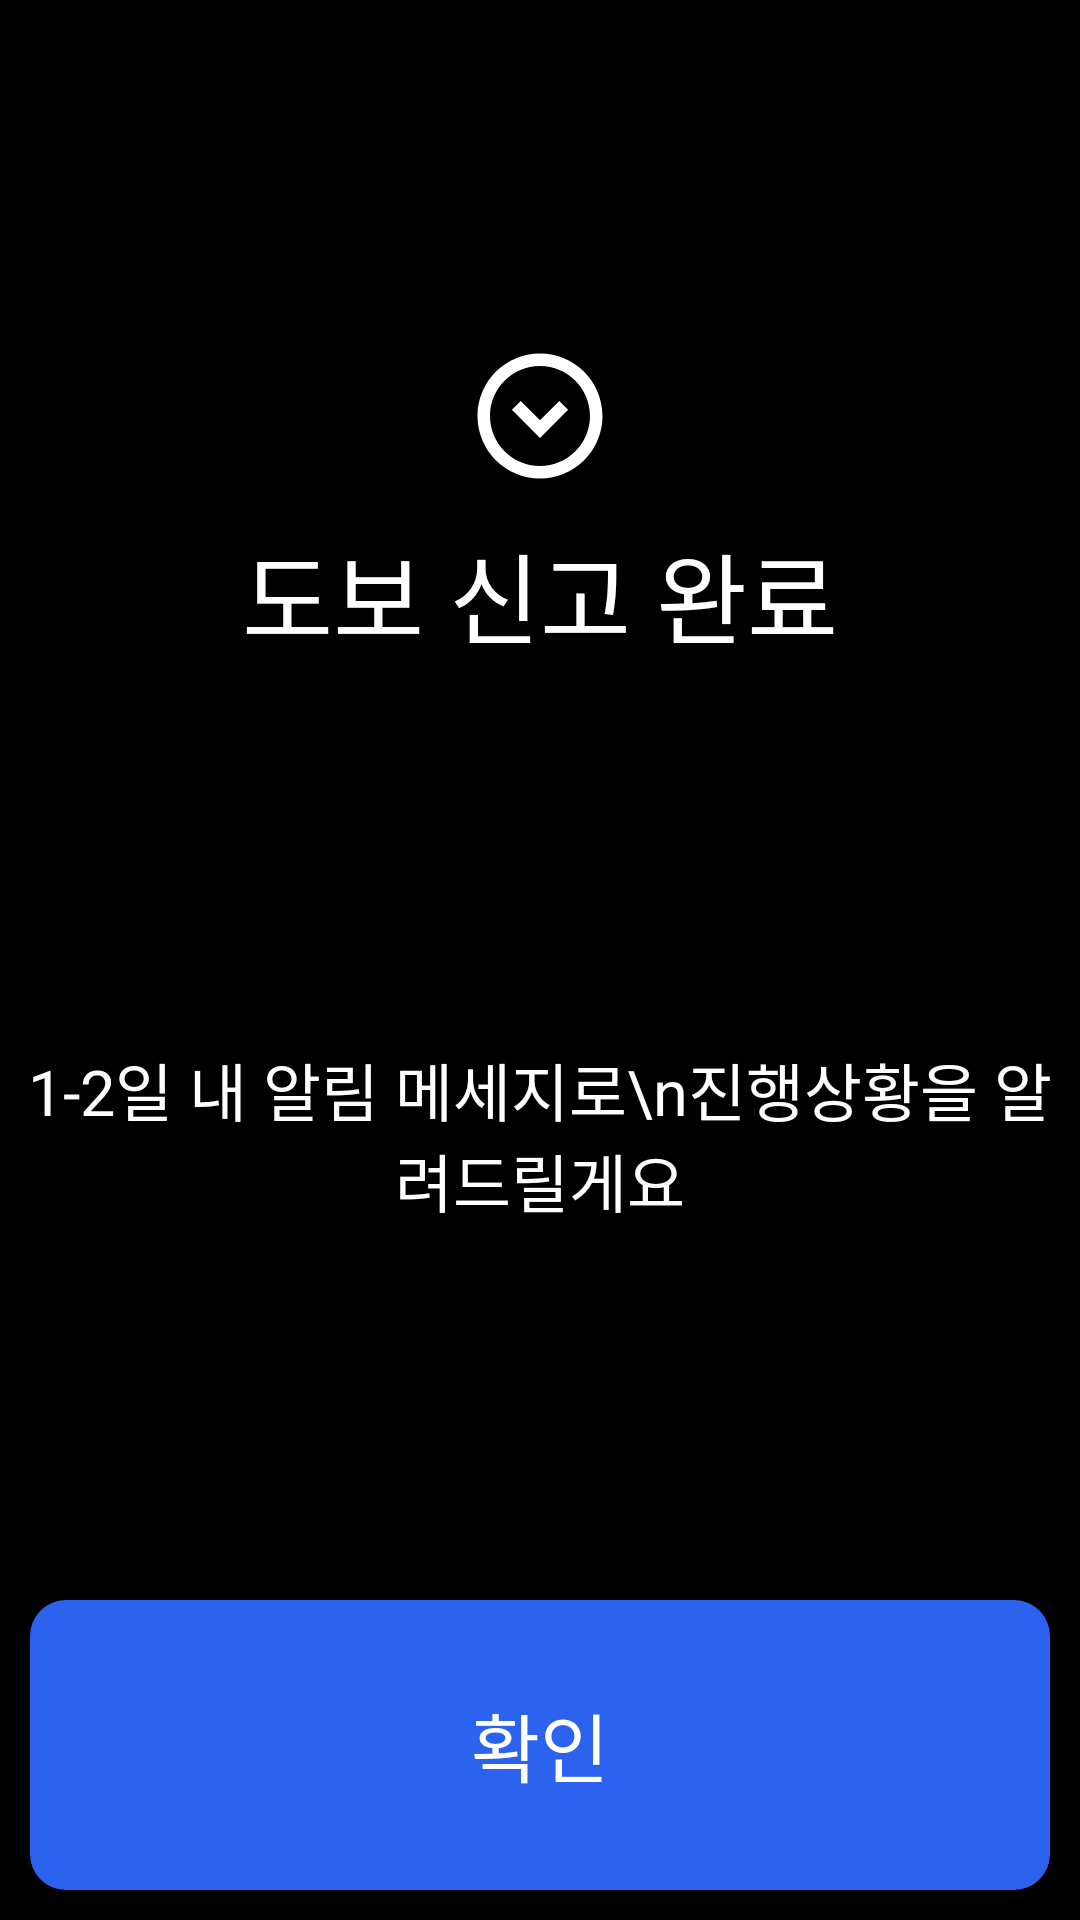

Locate icon controls on the screen. Image size 1080 x 1920, boxes as (x1, y1, x2, y2).
expand circle down: (477, 353, 603, 479)
